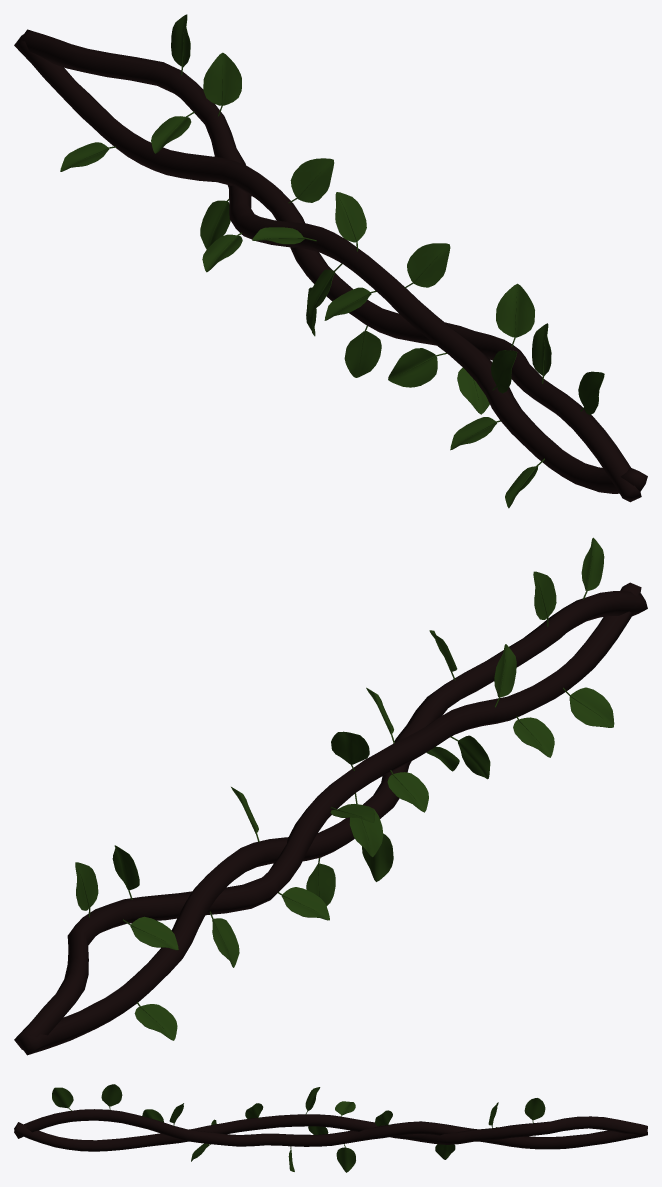
The model's file is ASM - PBR Metallic Roughness.fbx.
3 views of the same model, one above another, from view 1: azimuth 30°, elevation 25°; view 2: azimuth 150°, elevation 25°; view 3: azimuth 270°, elevation 25° (orthographic). The views are drawn at different scales.
Parts seen in each view (by area): view 1: polySurface18 (×2); view 2: polySurface18 (×2); view 3: polySurface18 (×2).
Part boxes in pixels (x1,y1,x2,y2): polySurface18 (×2): (14,14,647,508); polySurface18 (×2): (14,537,647,1055); polySurface18 (×2): (14,1084,647,1172).
Bounding box in the file's own units: 1 × 1.35 × 8.42.
